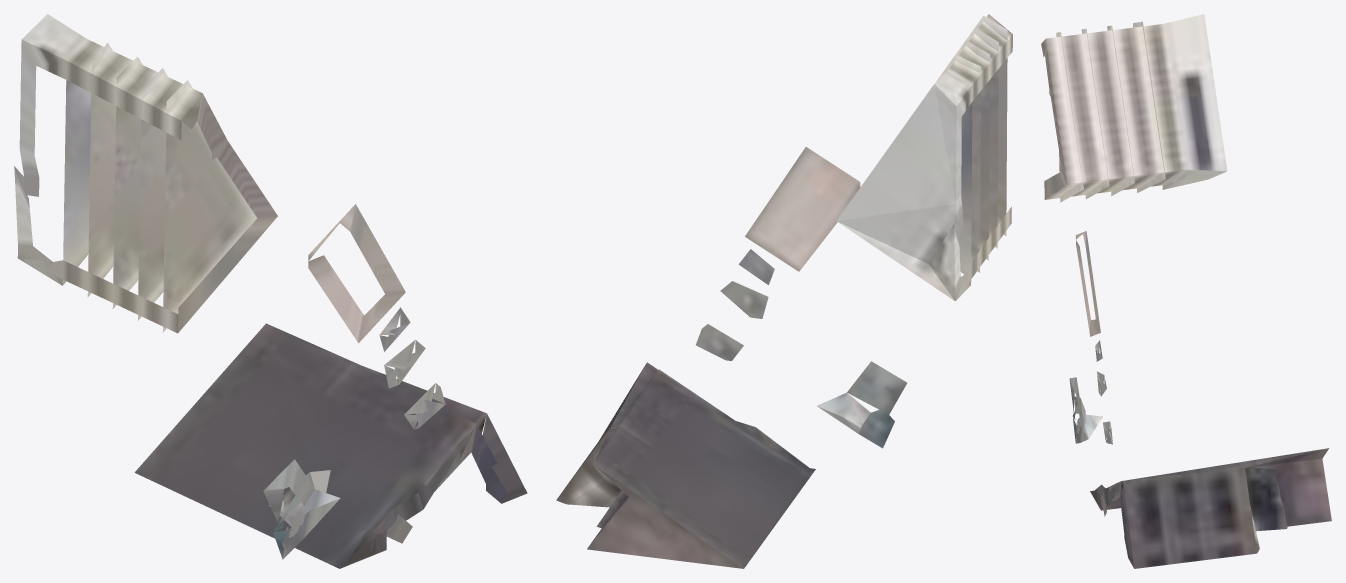
Rendered from tile_124.glb.
The picture shows the model from 3 angles, left to right: view 1: azimuth 30°, elevation 25°; view 2: azimuth 150°, elevation 25°; view 3: azimuth 270°, elevation 25°; orthographic projection. The views are drawn at different scales.
Size of the model in its own units: 45.43 by 51.9 by 34.09.
Materials: 1 (1 with a texture image).
